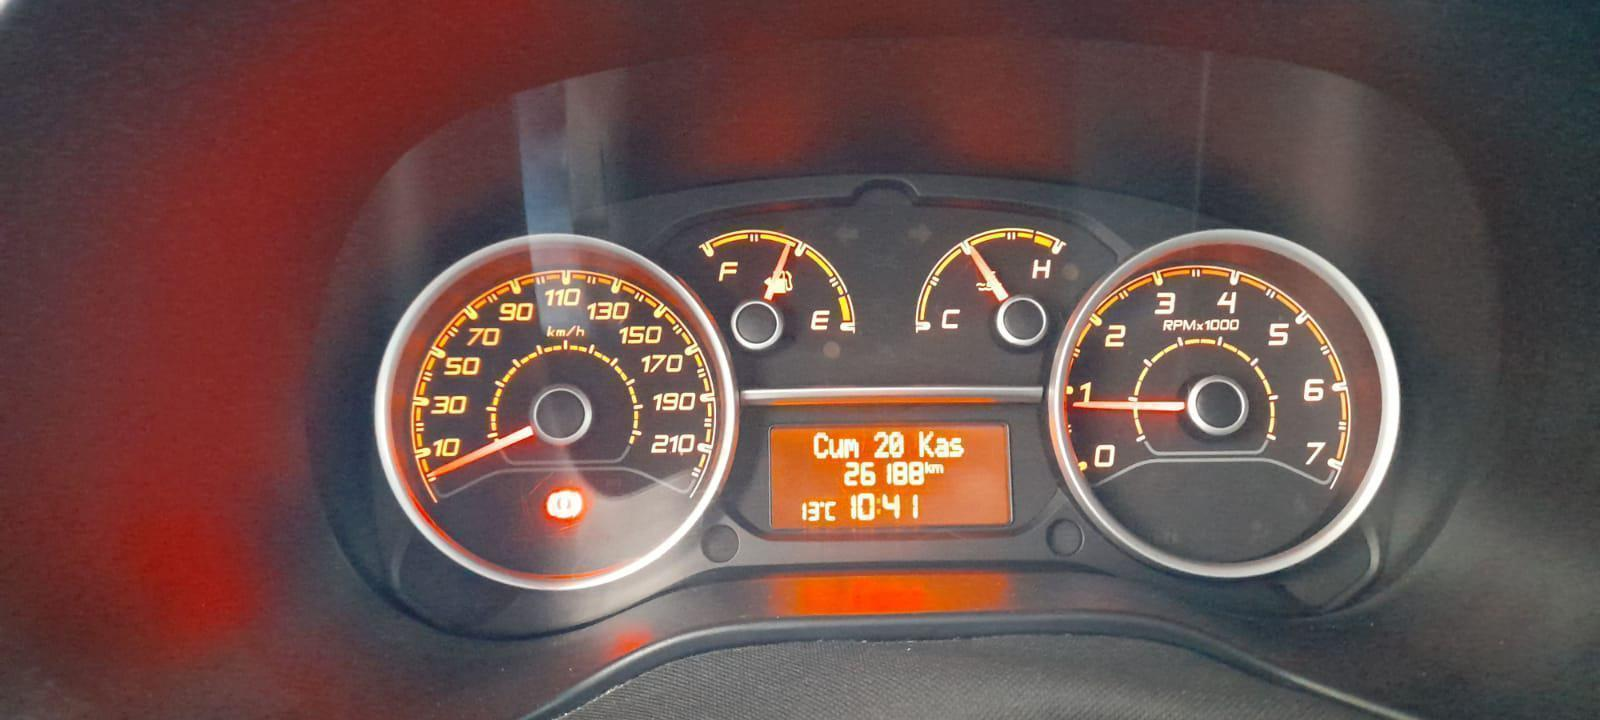0: (857, 492, 876, 521), (888, 431, 904, 458)
1: (849, 493, 857, 521), (911, 493, 919, 520), (884, 462, 892, 485), (801, 500, 807, 522), (801, 501, 807, 521)
2: (873, 431, 889, 458), (844, 461, 859, 487)
3: (808, 500, 820, 522)
4: (881, 492, 901, 520)
6: (860, 461, 876, 486)
8: (892, 460, 908, 486), (908, 460, 924, 486)
X: (918, 430, 935, 458), (812, 431, 828, 459), (843, 438, 860, 459), (949, 436, 965, 457), (828, 438, 843, 459), (935, 436, 949, 458), (823, 500, 837, 522), (932, 463, 945, 474), (924, 461, 933, 474)
odometer: (763, 419, 1017, 533)
